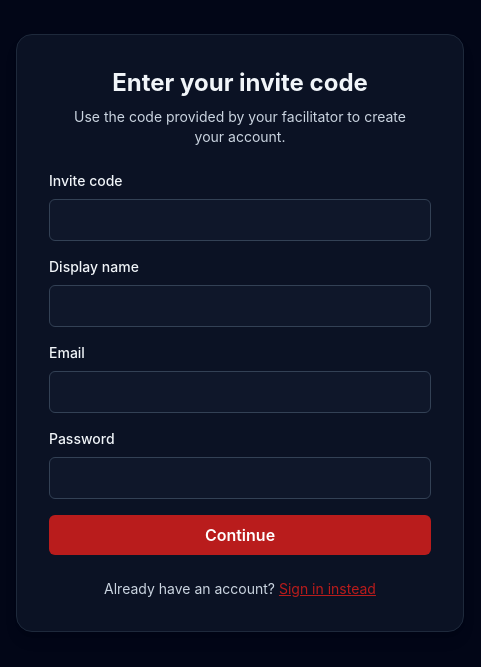
Scenario: InviteGatePage › requires invite code, email, and password
Click the button "Continue" at (240,535), box [49, 515, 431, 555]
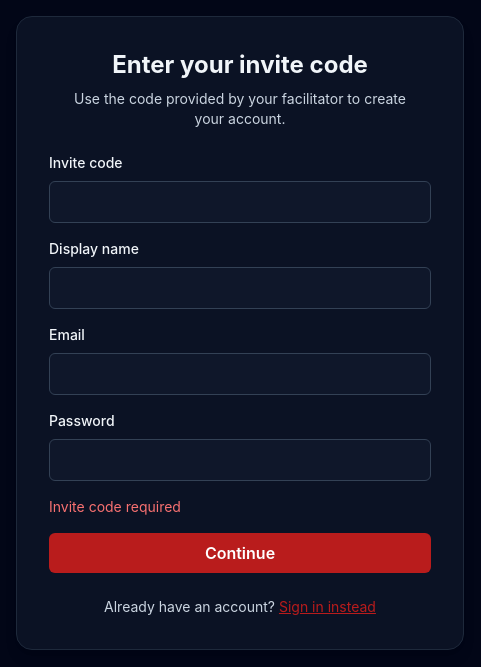
Now the message reads "Invite code required", box [49, 498, 181, 515]
